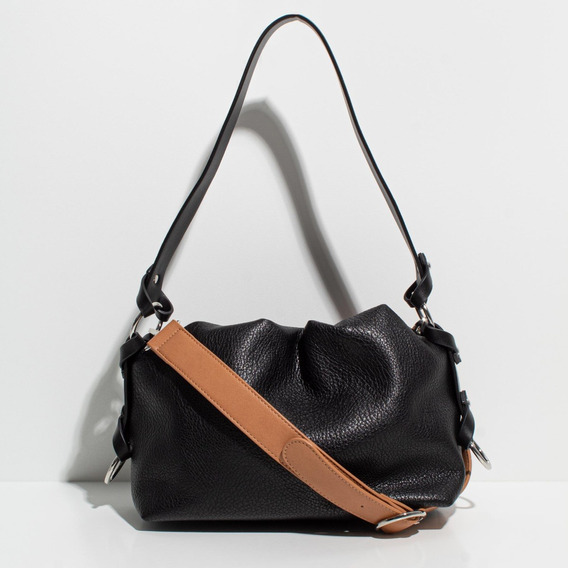cartera: (117, 11, 479, 533)
